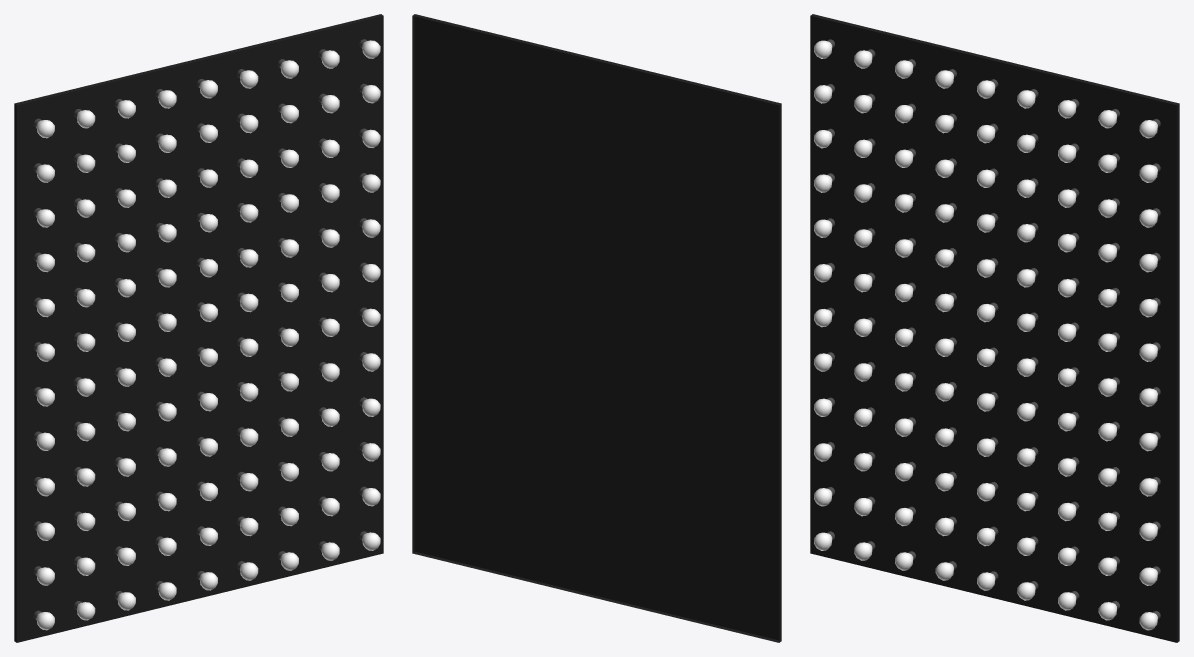
The model's file is PanelLight03.FBX.
The picture shows the model from 3 angles, left to right: view 1: azimuth 30°, elevation 25°; view 2: azimuth 150°, elevation 25°; view 3: azimuth 330°, elevation 25°; orthographic projection.
Parts seen in each view (by area): view 1: PanelLight03; view 2: PanelLight03; view 3: PanelLight03.
Boxes of the visible parts, x1,y1,x2,y2 form: PanelLight03: [14, 14, 383, 642]; PanelLight03: [412, 14, 781, 642]; PanelLight03: [810, 14, 1179, 642].
Size of the model in its own units: 2.5 by 3.5 by 0.1812.
